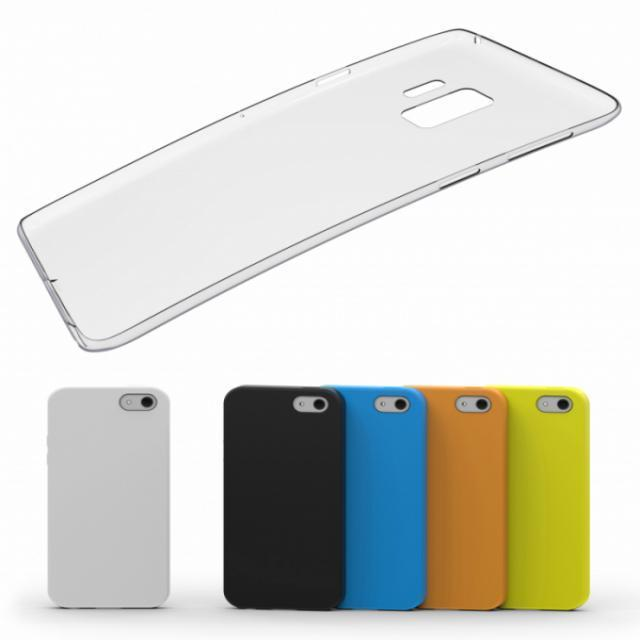phone: (224, 385, 348, 610), (47, 387, 170, 609)
